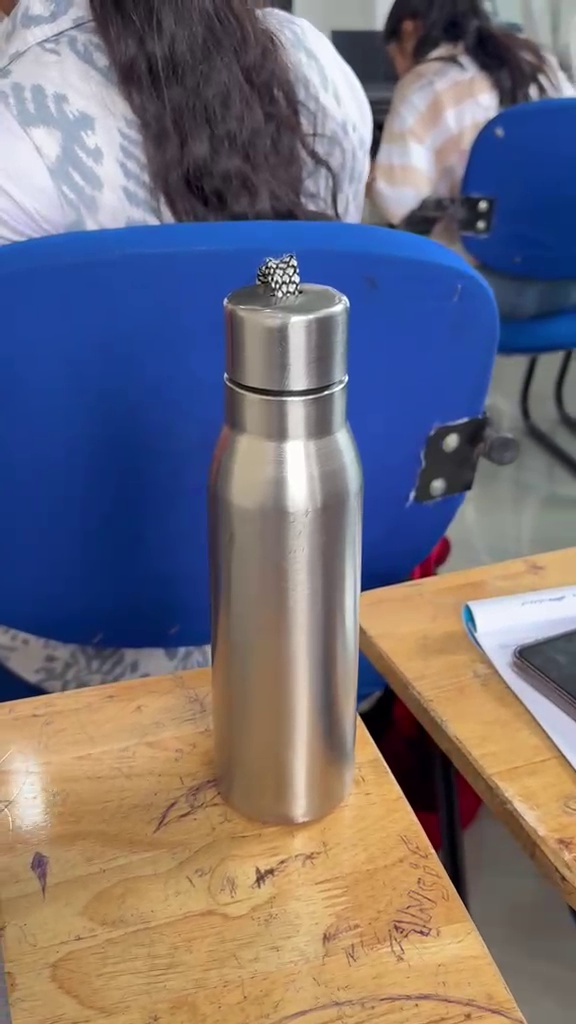Bottle: (210, 244, 370, 842)
